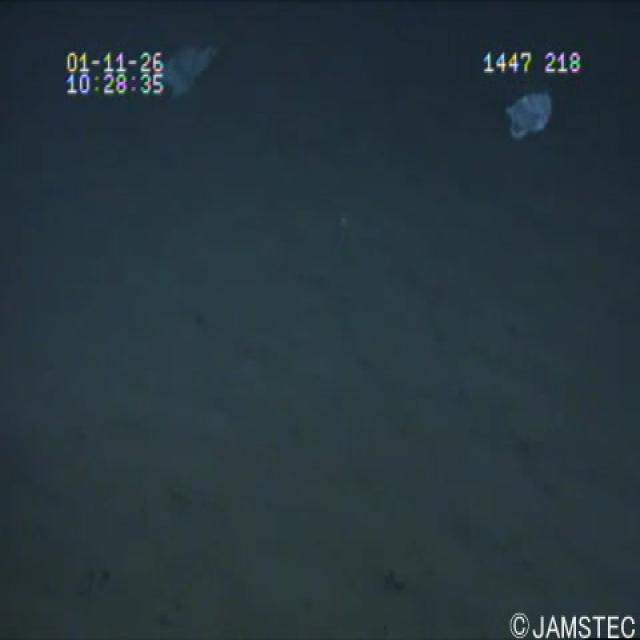plastic: (151, 31, 225, 108), (500, 82, 553, 142)
